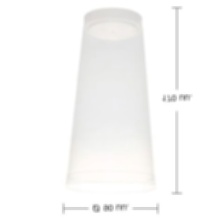glass: (57, 7, 169, 202)
